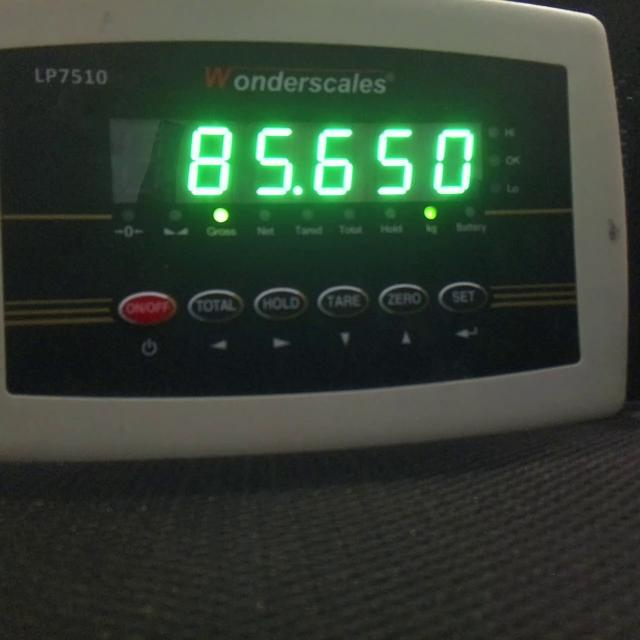.: (290, 182, 304, 196)
0: (434, 128, 475, 195)
5: (254, 126, 296, 197), (375, 127, 414, 195)
6: (313, 126, 354, 196)
8: (186, 124, 232, 196)
